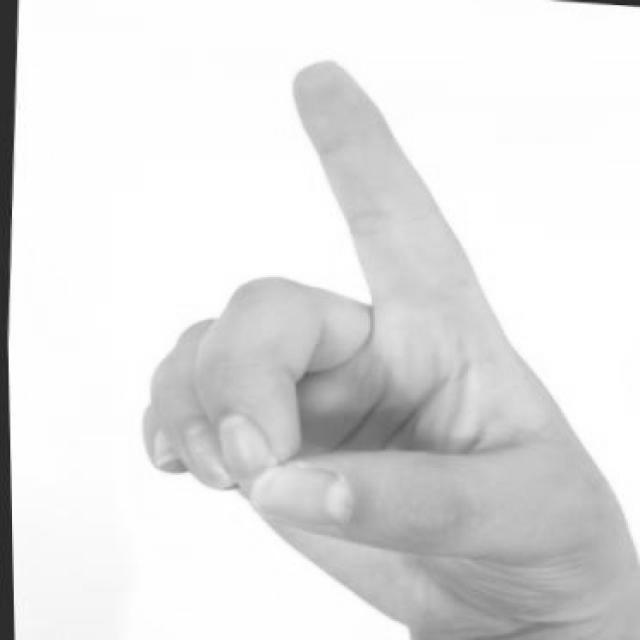D: (110, 33, 638, 638)
